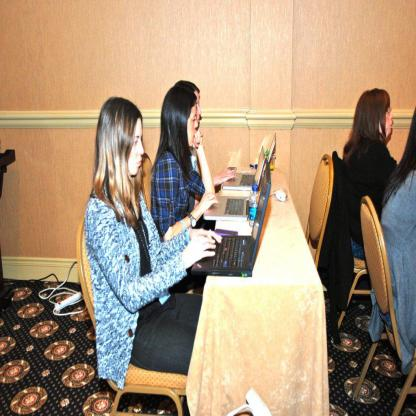board: (191, 160, 272, 278), (204, 144, 264, 223), (220, 133, 276, 191)
